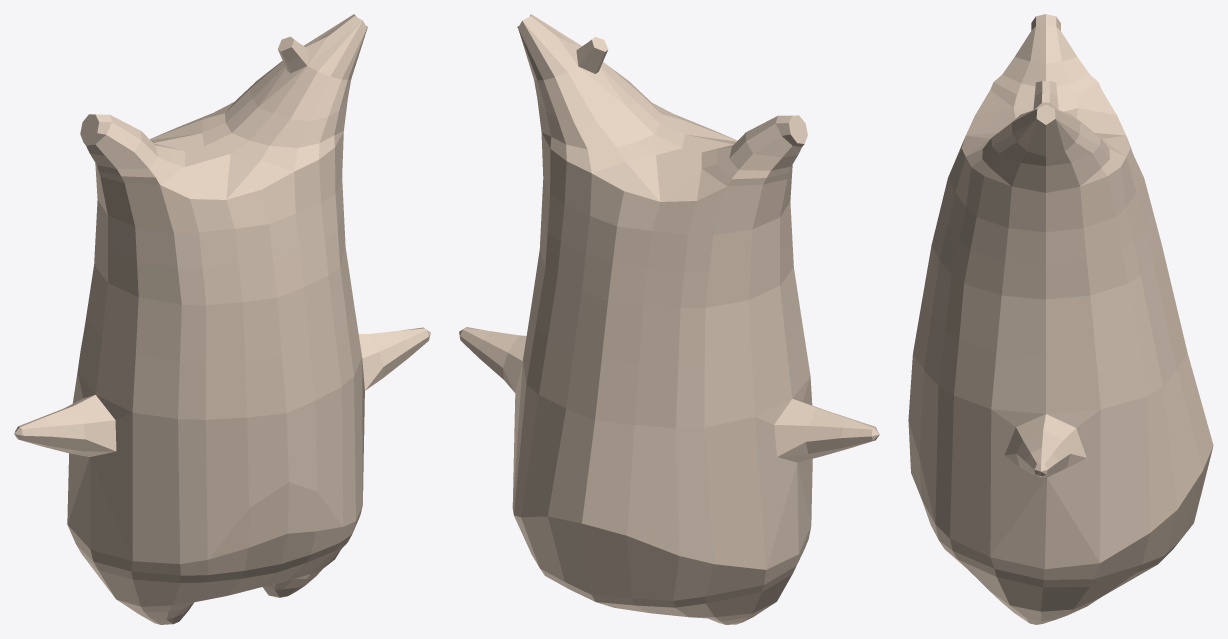
The model's file is frame_0157.obj.
The picture shows the model from 3 angles, left to right: view 1: azimuth 30°, elevation 25°; view 2: azimuth 150°, elevation 25°; view 3: azimuth 270°, elevation 25°; orthographic projection.
Parts seen in each view (by area): view 1: korok; view 2: korok; view 3: korok.
Boxes of the visible parts, x1,y1,x2,y2 form: korok: (14,14,430,624); korok: (459,14,879,624); korok: (908,14,1213,624).
Bounding box in the file's own units: 1.67 × 2.14 × 1.07.
